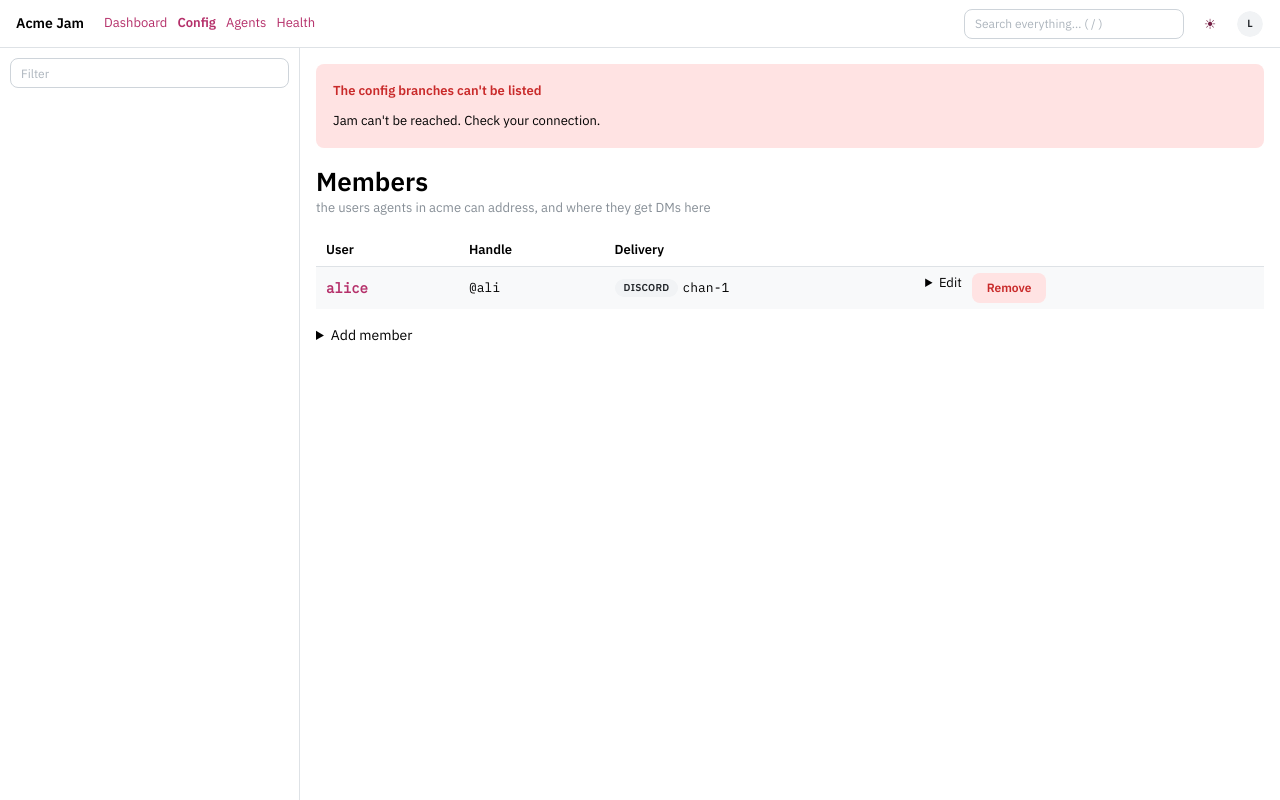
Test: project members › switches to Project not found when a write finds the project gone
Click the heading "Edit" at point(950, 283), box [939,274,962,291]
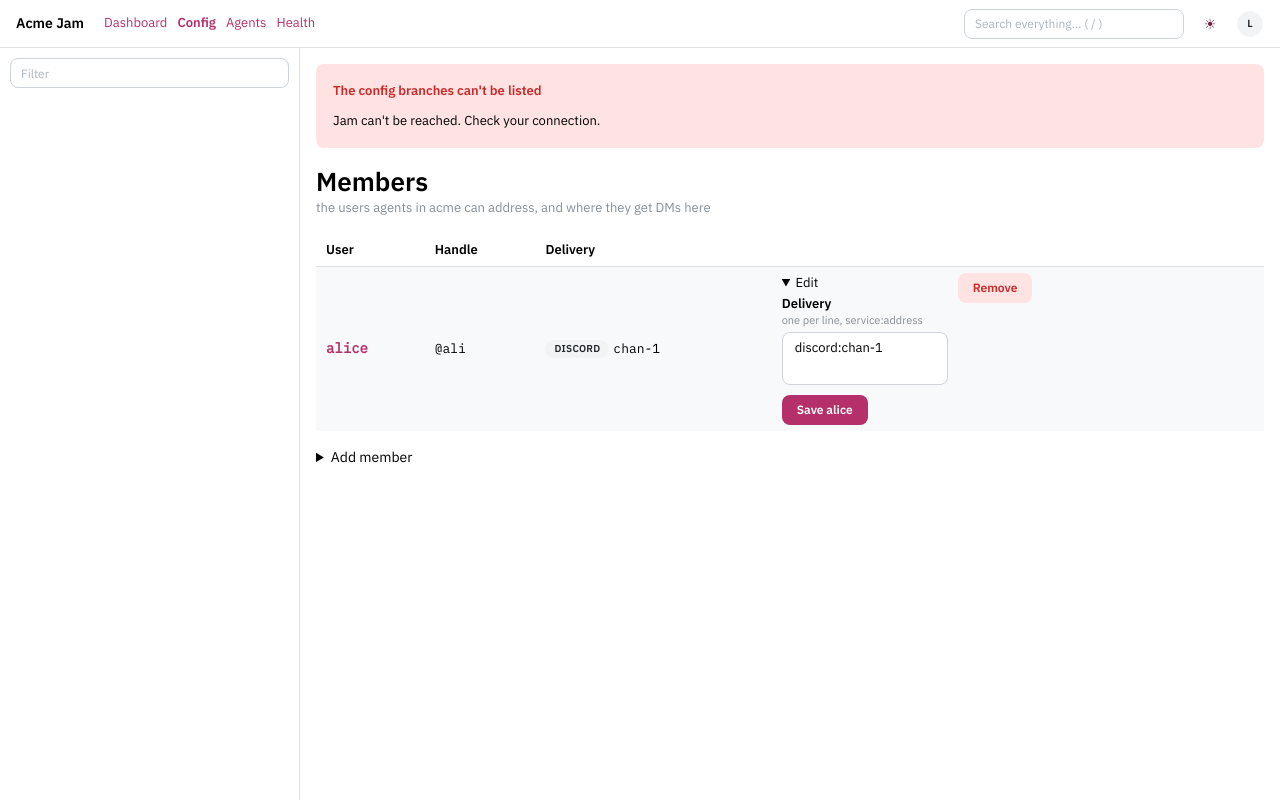
Click the button "Save alice" at point(825, 410), box [782,395,868,425]
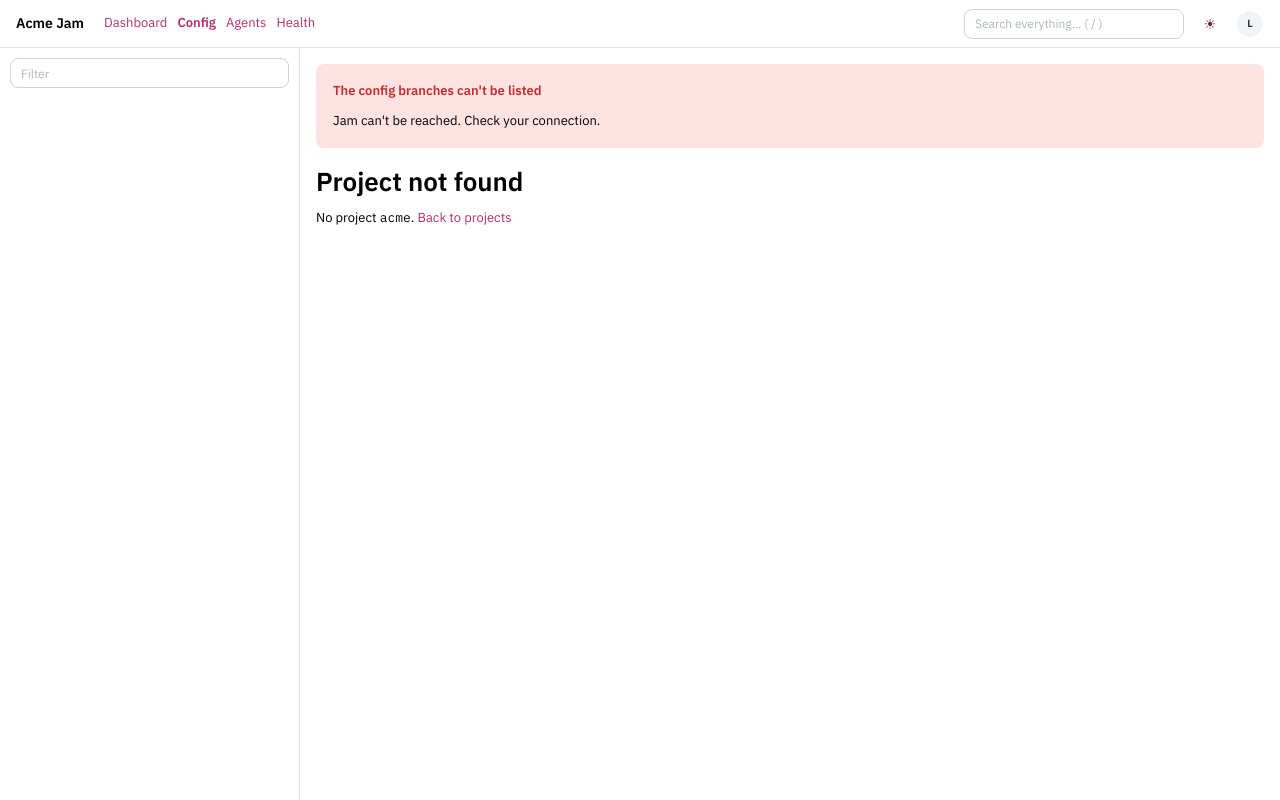
Check: the heading "Project not found" is shown, box [316,164,524,198]
